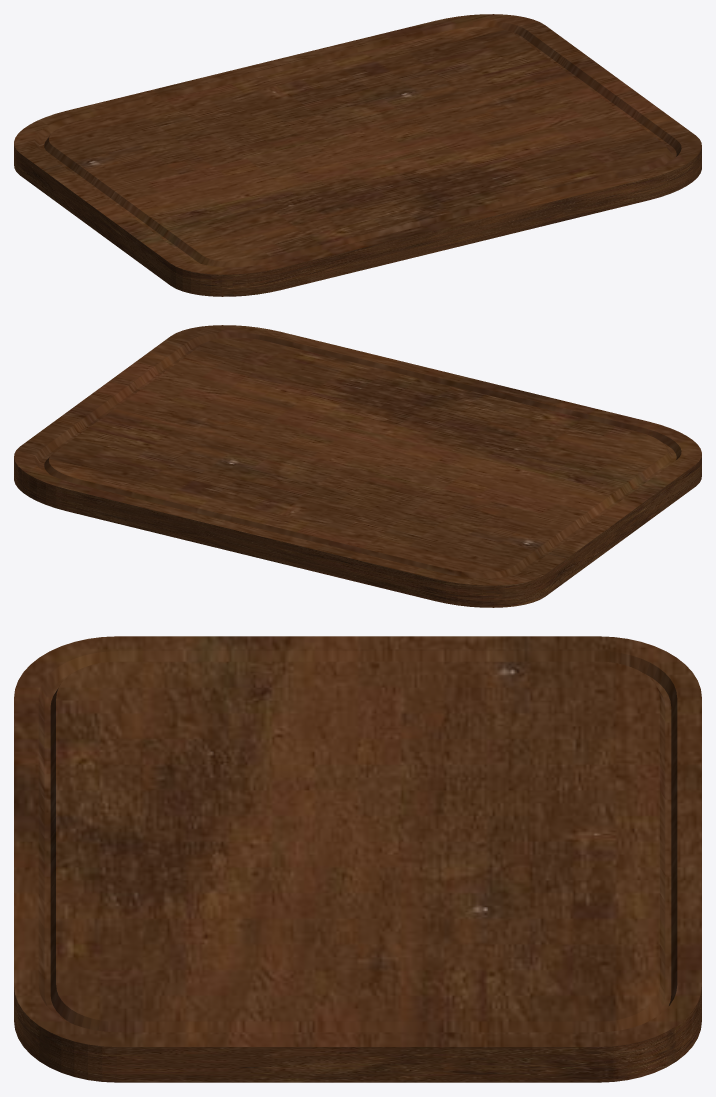
Rendered from Cookingplatform.fbx.
3 views of the same model, one above another, from view 1: azimuth 30°, elevation 25°; view 2: azimuth 150°, elevation 25°; view 3: azimuth 270°, elevation 25° (orthographic). The views are drawn at different scales.
Parts seen in each view (by area): view 1: Cookingplatform; view 2: Cookingplatform; view 3: Cookingplatform.
Part boxes in pixels (x1,y1,x2,y2): Cookingplatform: (14, 14, 701, 296); Cookingplatform: (14, 325, 701, 607); Cookingplatform: (14, 636, 701, 1082).
Size of the model in its own units: 3263 by 132 by 2310.
Materials: 1 (1 with a texture image).
